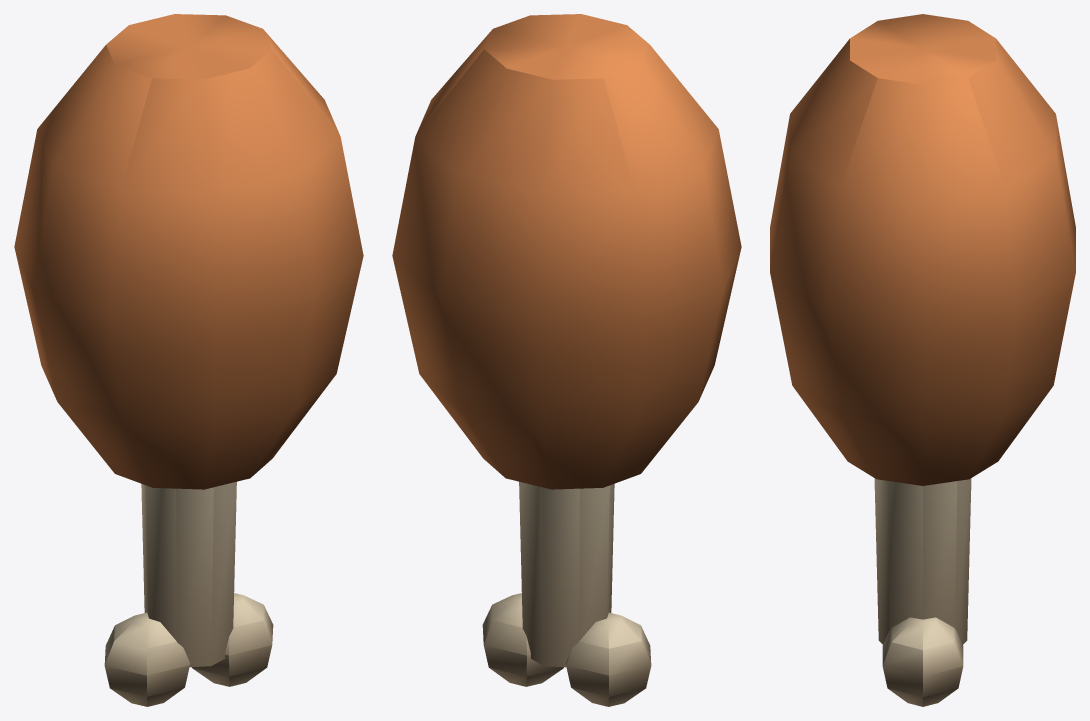
File: food_meat_drumstick.glb
The picture shows the model from 3 angles, left to right: view 1: azimuth 30°, elevation 25°; view 2: azimuth 150°, elevation 25°; view 3: azimuth 270°, elevation 25°; orthographic projection.
Parts seen in each view (by area): view 1: Item; view 2: Item; view 3: Item.
Part boxes in pixels (x1=…): Item: x1=14, y1=14, x2=363, y2=706; Item: x1=392, y1=14, x2=741, y2=706; Item: x1=770, y1=14, x2=1075, y2=706.
Size of the model in its own units: 0.304 by 0.5968 by 0.2625.
1 material, 1 textured.
